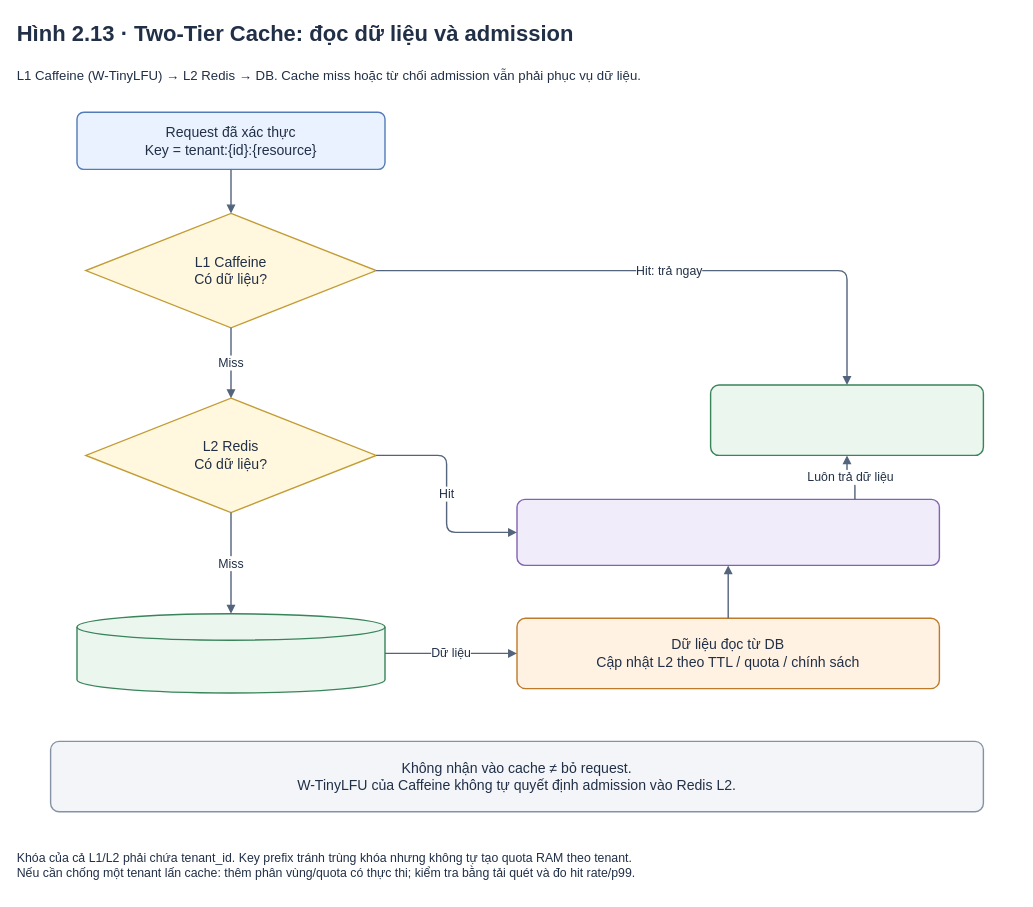
The diagram is 1033 pixels wide and 907 high, and some of its shapes have lost their labels. The shapes that lost their labels are listed below. From the top down, each one's box as (x1, y1, x2, y2) in pixels, then its label:
(709, 384, 984, 456): Trả dữ liệu cho client
(516, 498, 940, 566): Cân nhắc cập nhật L1 W-TinyLFU quản lý window/main
(76, 613, 385, 693): Đọc PostgreSQL Transaction + SET LOCAL + RLS
